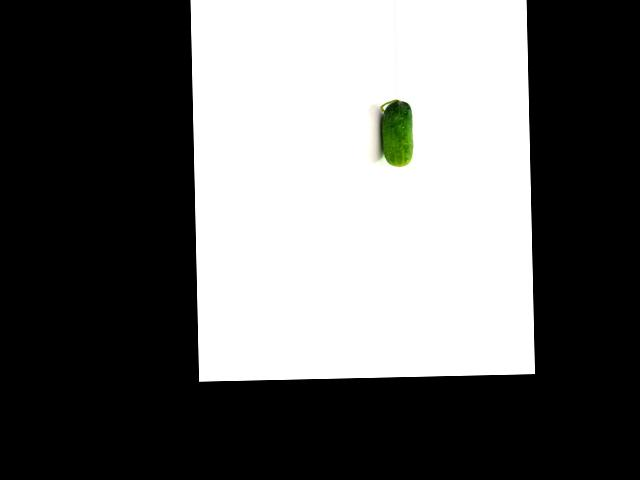cucumber: (379, 99, 413, 168)
